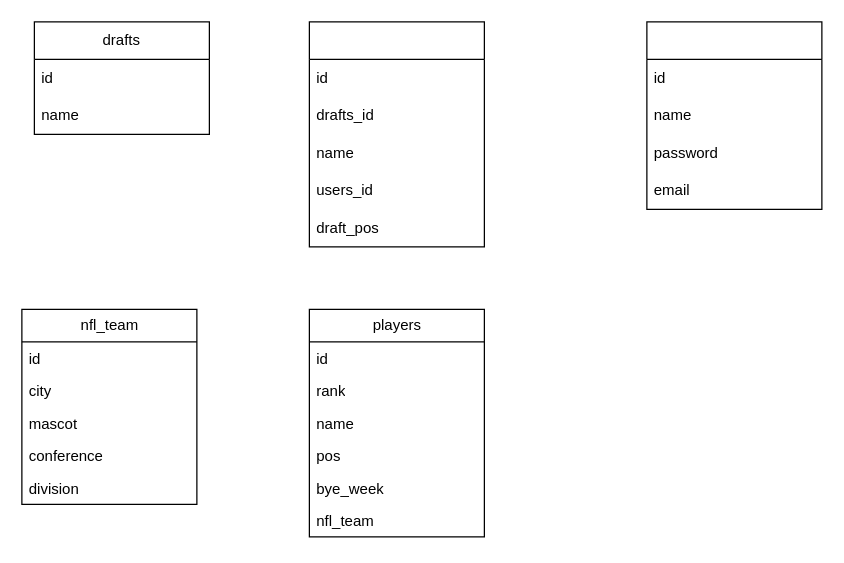
Image size: 844x563. Some labels were removed from this diagram. Each missing label, with the box of its shape:
teams: (308, 21, 484, 247)
users: (646, 21, 822, 209)
